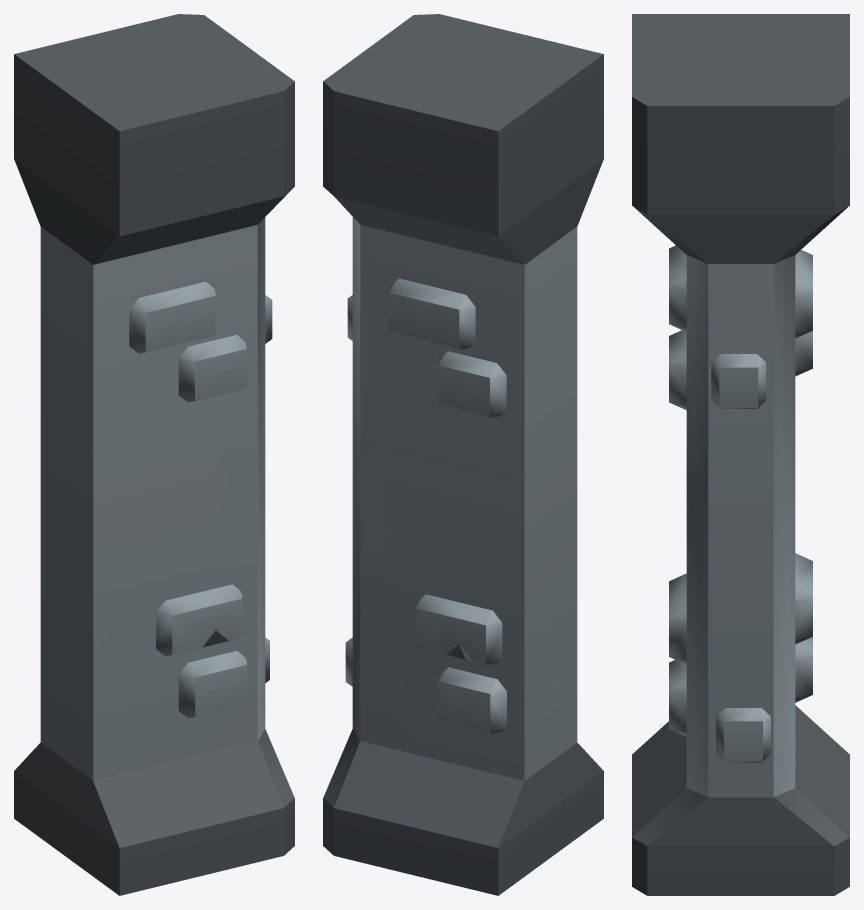
Rendered from wall_endcap.glb.
3 views of the same model, side by side, from view 1: azimuth 30°, elevation 25°; view 2: azimuth 150°, elevation 25°; view 3: azimuth 270°, elevation 25° (orthographic). The views are drawn at different scales.
Parts seen in each view (by area): view 1: wall_endcap; view 2: wall_endcap; view 3: wall_endcap.
Part boxes in pixels (left/top/right/bottom): wall_endcap: left=14, top=14, right=294, bottom=895; wall_endcap: left=323, top=14, right=603, bottom=895; wall_endcap: left=632, top=14, right=849, bottom=895.
Bounding box in the file's own units: 1.07 × 4 × 1.
1 material, 1 textured.
